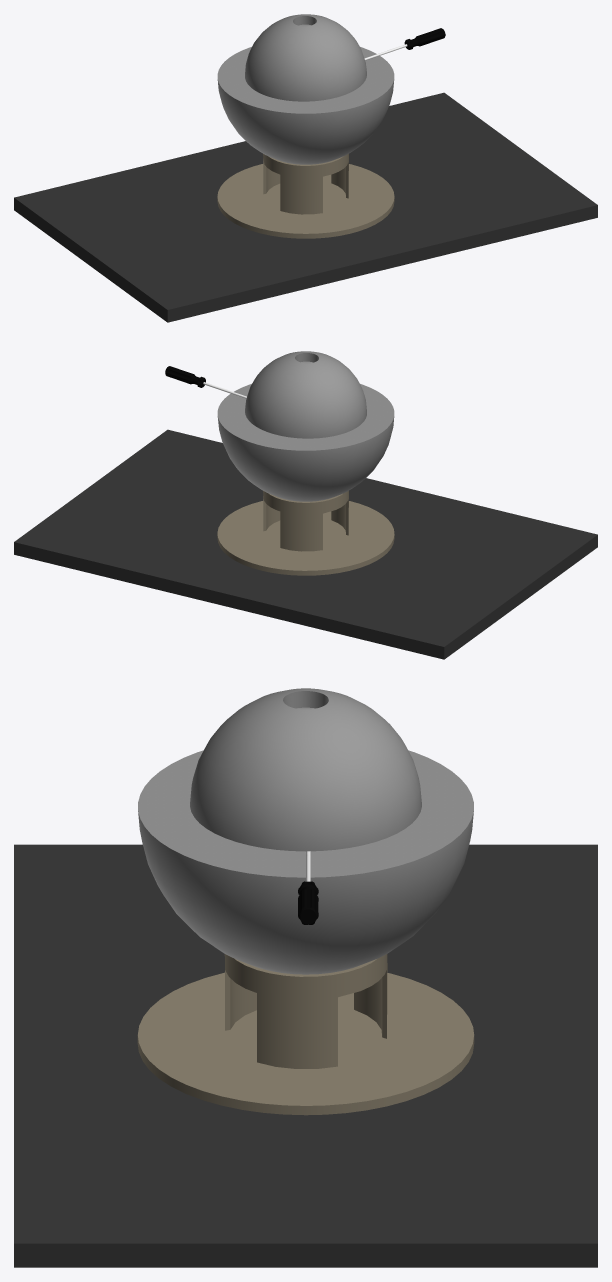
Rendered from demon_core_1.glb.
The picture shows the model from 3 angles, top to bottom: view 1: azimuth 30°, elevation 25°; view 2: azimuth 150°, elevation 25°; view 3: azimuth 270°, elevation 25°; orthographic projection. The views are drawn at different scales.
Parts seen in each view (by area): view 1: Plane, core, base, screwdriver; view 2: Plane, core, base, screwdriver; view 3: Plane, core, base, screwdriver.
Boxes of the visible parts, x1,y1,x2,y2 form: Plane: (14, 92, 597, 322); core: (217, 14, 394, 164); base: (217, 154, 394, 238); screwdriver: (364, 28, 445, 60); Plane: (14, 429, 597, 659); core: (217, 351, 394, 501); base: (217, 491, 394, 575); screwdriver: (165, 366, 246, 398); Plane: (14, 844, 597, 1267); core: (138, 688, 473, 974); base: (137, 954, 474, 1115); screwdriver: (298, 851, 318, 924).
Size of the model in its own units: 4.03 by 1.73 by 2.49.
6 materials, 2 textured.
